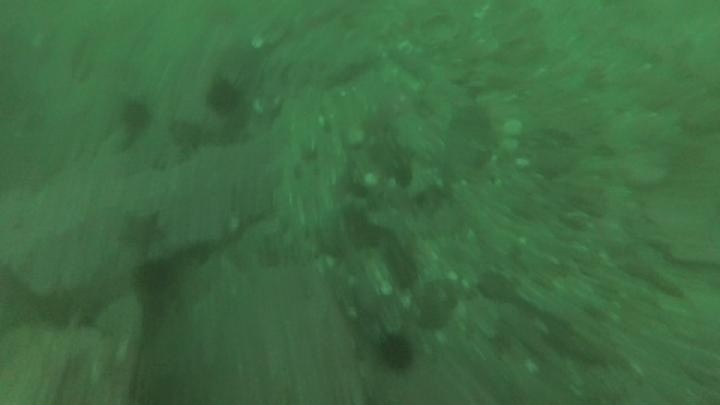echinus: (375, 331, 417, 374), (204, 75, 245, 118), (133, 257, 177, 297), (118, 97, 154, 135)
starfish: (117, 208, 166, 253)
